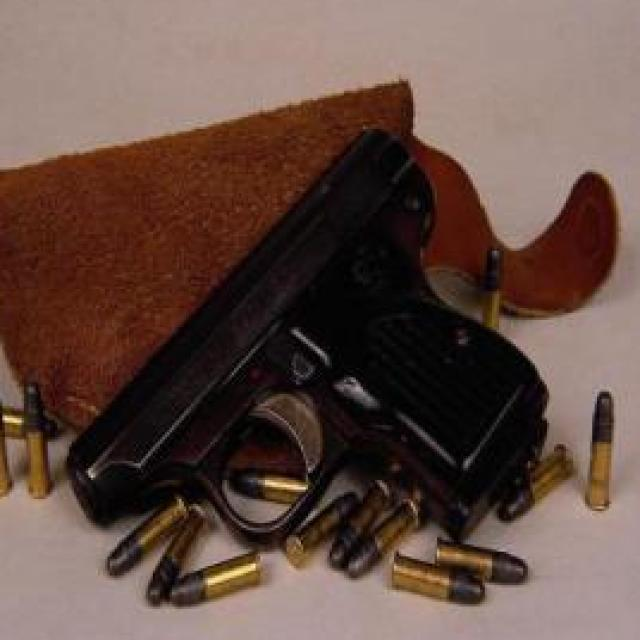pistol: (67, 124, 549, 553)
